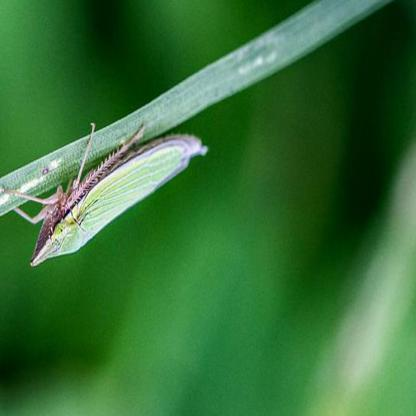green-leafhopper: (30, 117, 204, 268)
